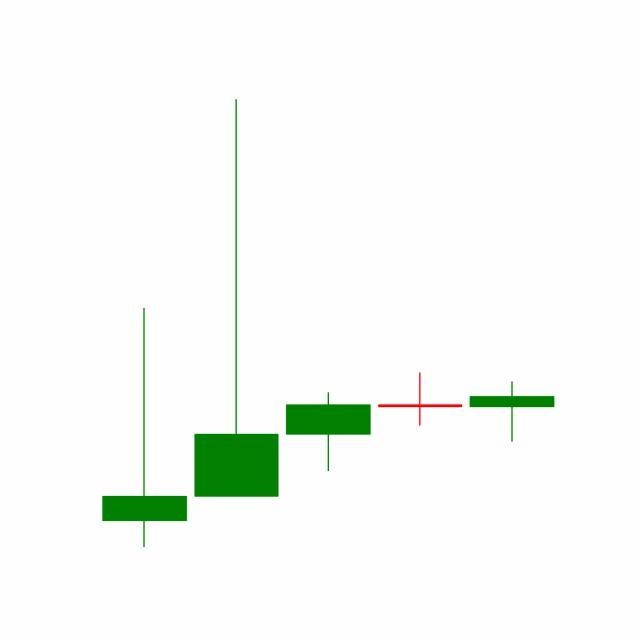Spinning Top: (374, 372, 468, 427)
